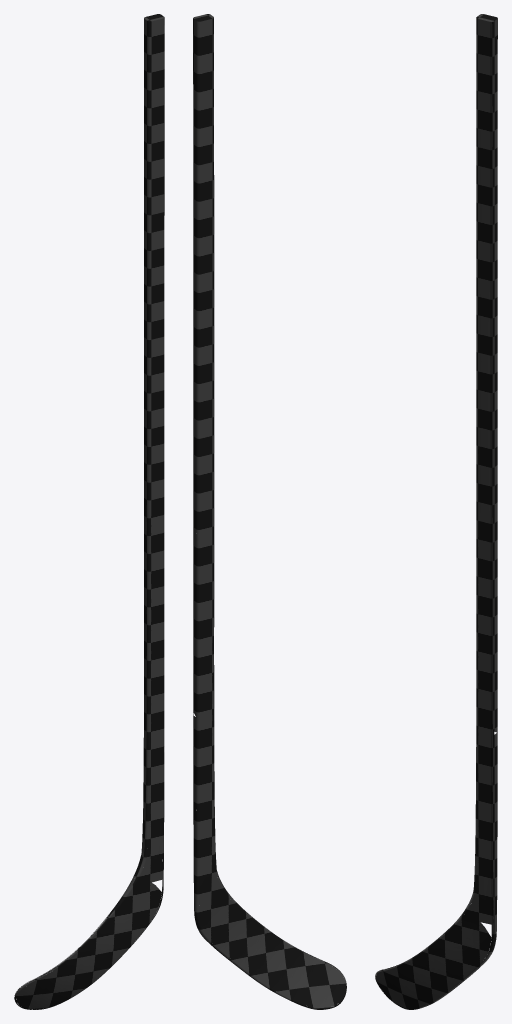
3 views of the same model, side by side, from view 1: azimuth 30°, elevation 25°; view 2: azimuth 210°, elevation 25°; view 3: azimuth 330°, elevation 25° (orthographic). The views are drawn at different scales.
Visible parts, largest first — view 1: geometry_0; view 2: geometry_0; view 3: geometry_0.
Boxes of the visible parts, x1,y1,x2,y2 form: geometry_0: [14, 14, 164, 1009]; geometry_0: [193, 14, 346, 1009]; geometry_0: [375, 14, 497, 1009].
Size of the model in its own units: 231 by 1650 by 71.4.
1 material, 1 textured.
